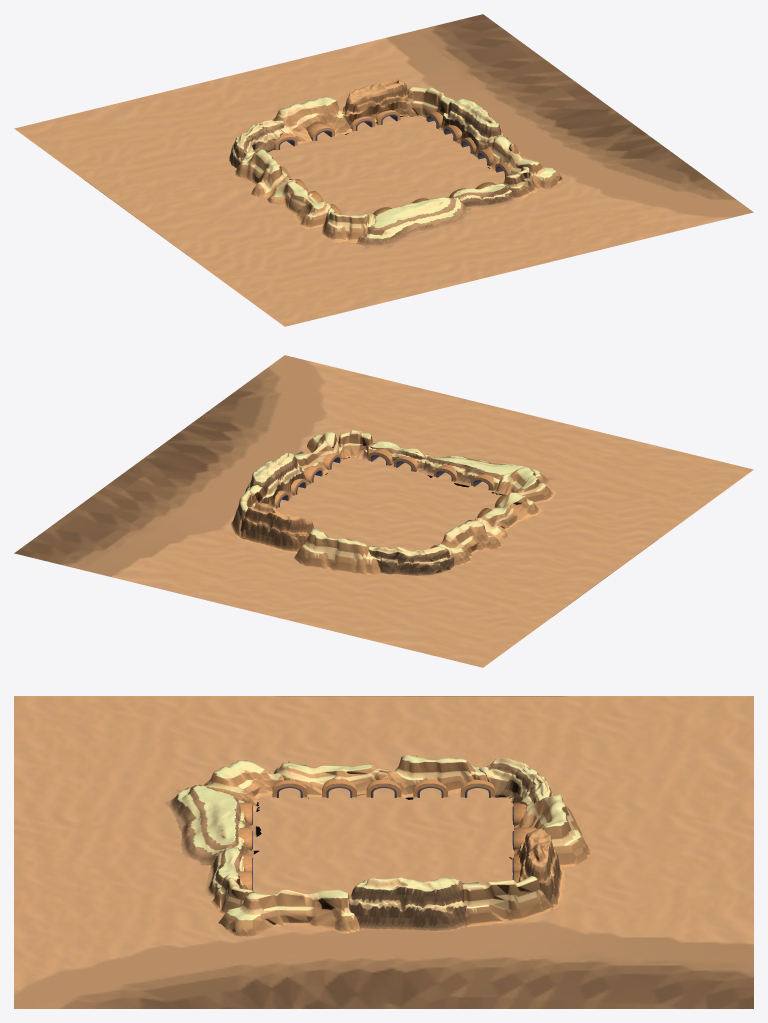
Rendered from mountain.glb.
3 views of the same model, one above another, from view 1: azimuth 30°, elevation 25°; view 2: azimuth 150°, elevation 25°; view 3: azimuth 270°, elevation 25° (orthographic). The views are drawn at different scales.
Visible parts, largest first — view 1: mountains, tunnel; view 2: mountains, tunnel; view 3: mountains, tunnel.
Boxes of the visible parts, x1,y1,x2,y2 form: mountains: (14, 14, 753, 326); tunnel: (274, 110, 510, 215); mountains: (14, 355, 753, 667); tunnel: (261, 449, 506, 548); mountains: (14, 696, 753, 1008); tunnel: (238, 778, 536, 890).
Size of the model in its own units: 630 by 44.35 by 630.
Materials: 2 (2 with a texture image).
